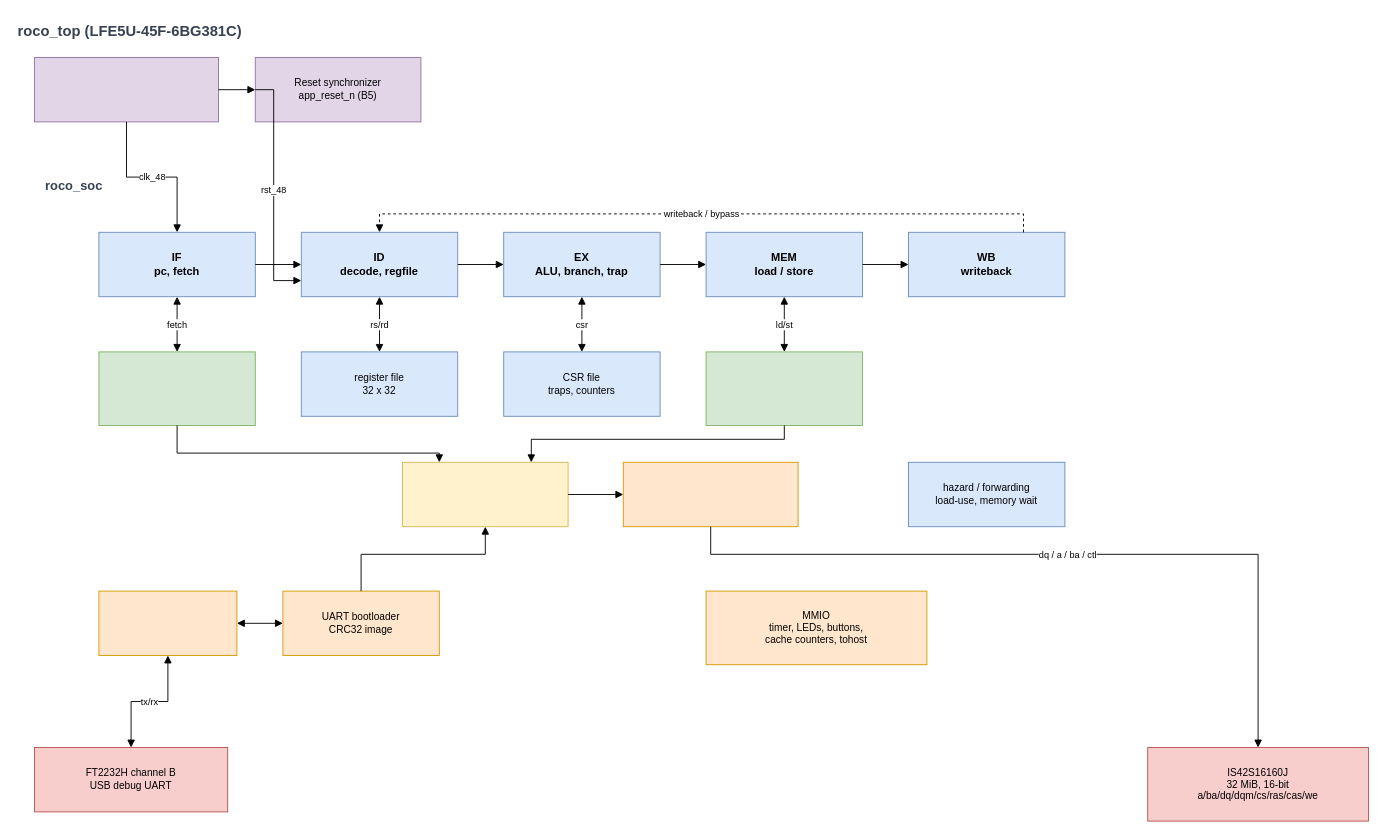
Image size: 1385x837. Some labels were removed from this diagram. The shapes that lost their labels are listed below. From the top down, each one's box as (x1, y1, x2, y2) in pixels, then its label:
(34, 57, 218, 122): EHXPLLL 24 MHz -> 48 MHz clk_24 (A4)
(98, 351, 255, 426): I-cache 2 KiB, 16 B lines
(705, 351, 862, 426): D-cache 4 KiB, write-back
(402, 461, 568, 527): mem arbiter round-robin
(622, 461, 798, 527): SDRAM controller BL=2, CL=3, refresh
(98, 590, 237, 656): UART 115200 uart_rx (M5) / uart_tx (L5)
